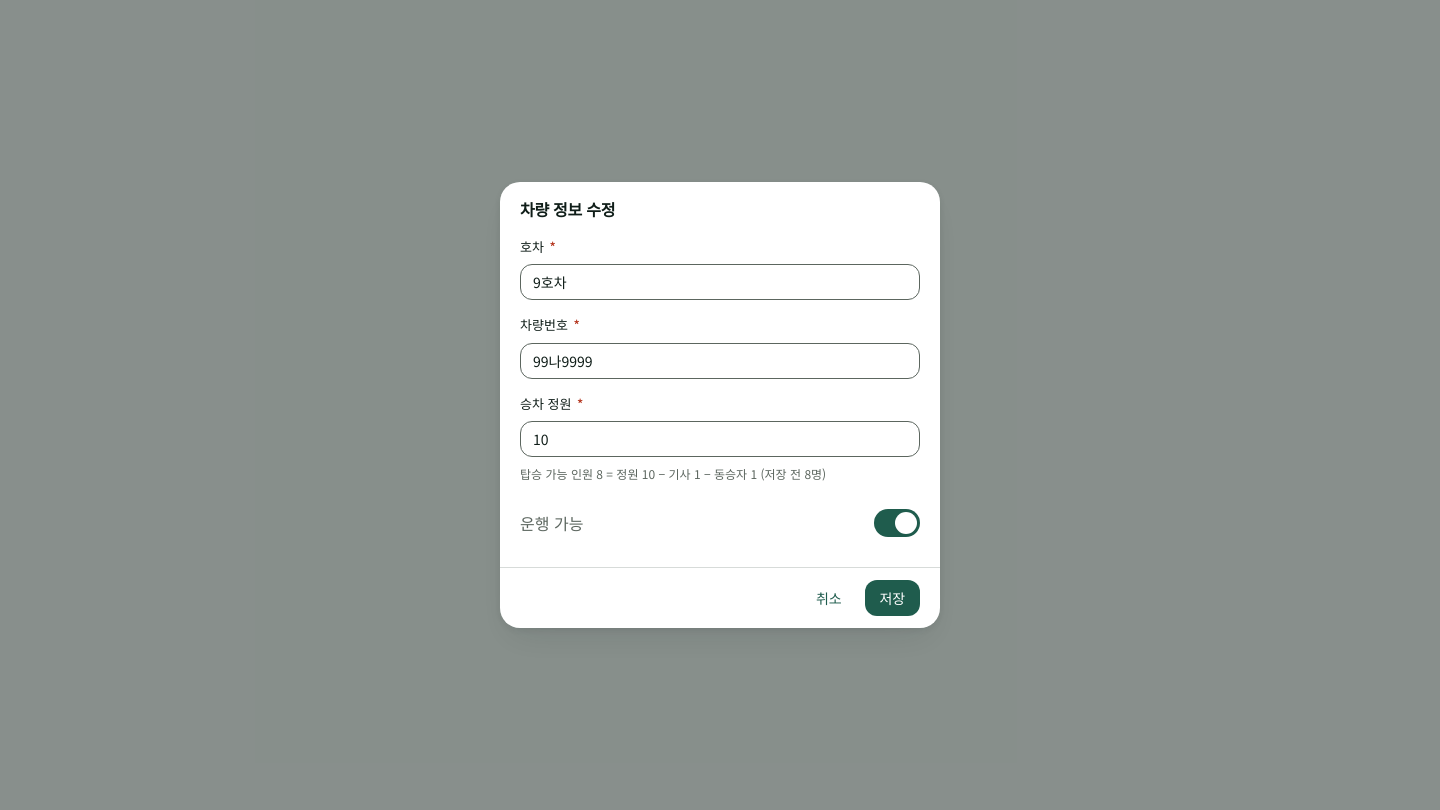
Test: BusForm — 등록 실패 갈래 › 경고 문구는 내부 번호만 던지지 않고 무엇이 넘쳤는지 말한다
This screenshot has width=1440, height=810.
Click the button "저장": x=892, y=598 [864,580,920,616]
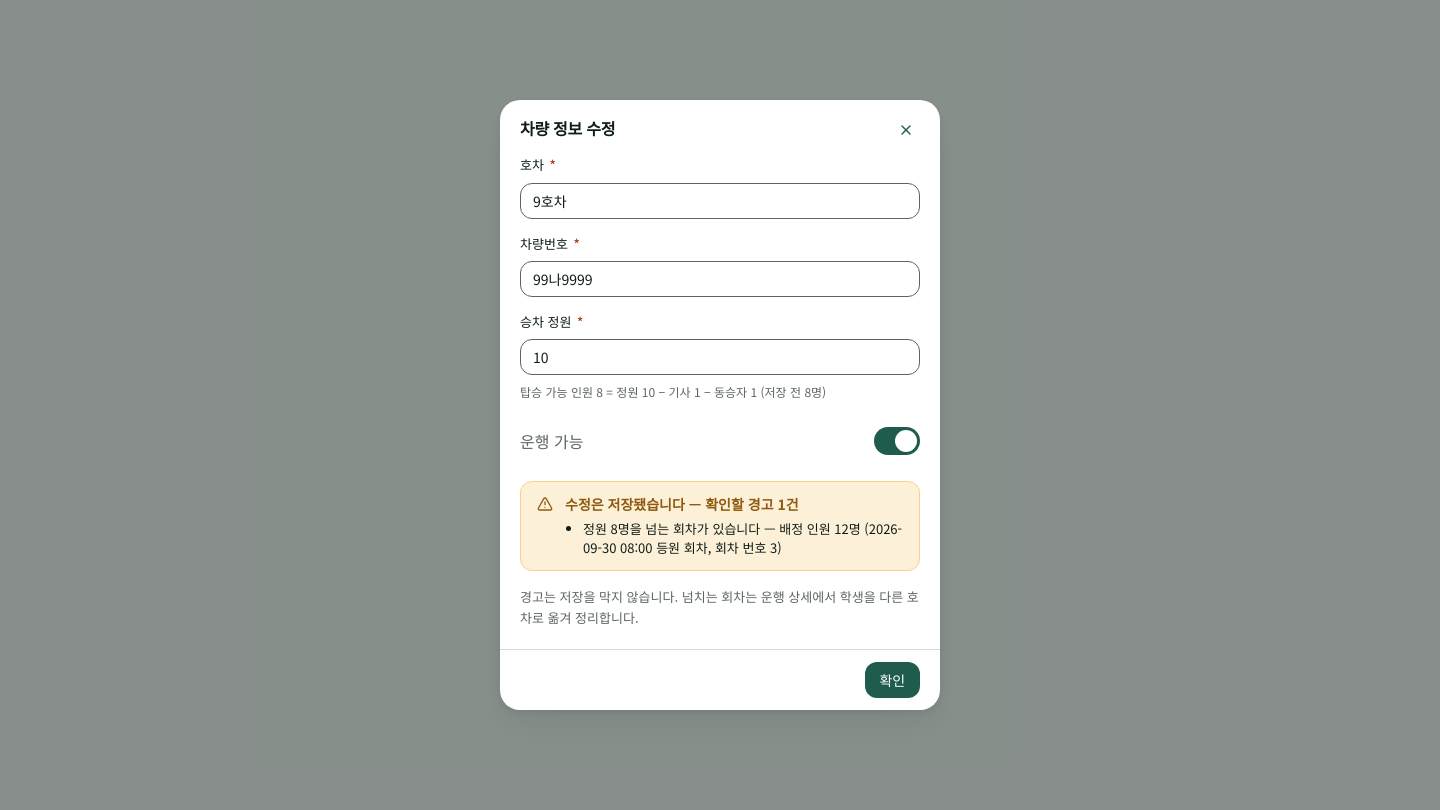
Expected: the list item "정원 8명을 넘는 회차가 있습니다 — 배정 인원 12명 (2026-09-30 08:00 등원 회차, 회차 번호 3)" is shown, [583,519,903,558]
